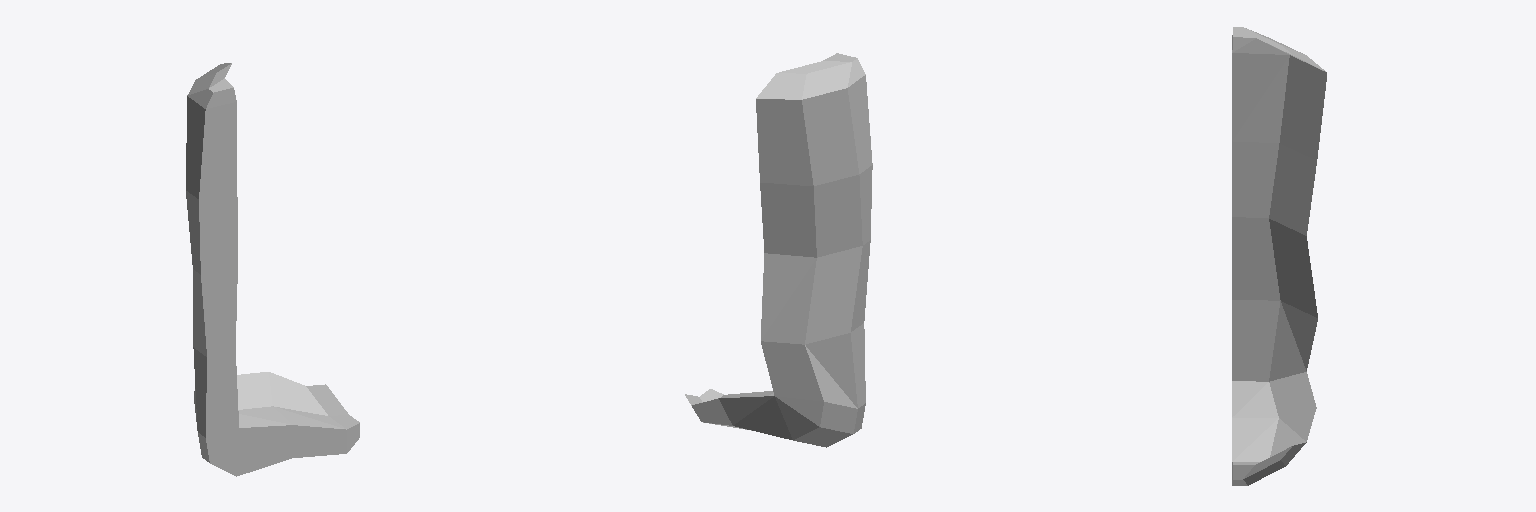
Rendered from MapGeo2.obj.
3 renders of one model, left to right at view 1: azimuth 30°, elevation 25°; view 2: azimuth 150°, elevation 25°; view 3: azimuth 270°, elevation 25°, orthographic.
Parts seen in each view (by area): view 1: Cube.013; view 2: Cube.013; view 3: Cube.013.
Part boxes in pixels (x1,y1,x2,y2): Cube.013: (186, 63, 359, 476); Cube.013: (685, 53, 872, 447); Cube.013: (1232, 27, 1326, 485).
Size of the model in its own units: 2342 by 5447 by 1193.